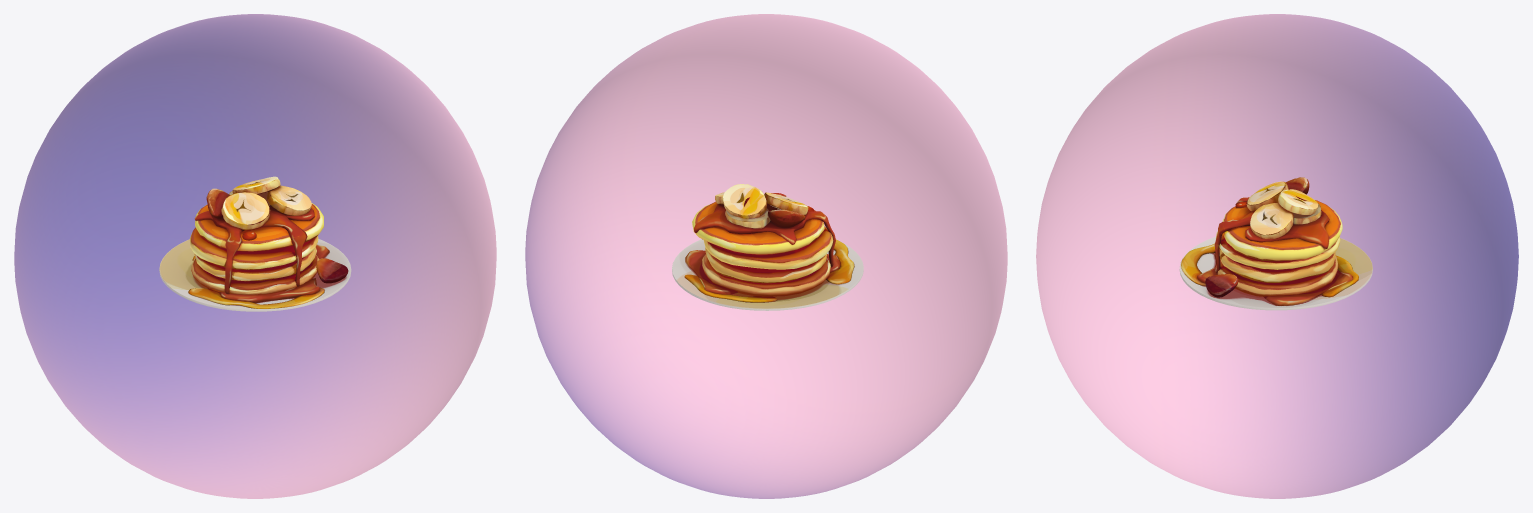
File: mouthwatering_banana_pancakes_in_syrup.glb
3 views of the same model, side by side, from view 1: azimuth 30°, elevation 25°; view 2: azimuth 150°, elevation 25°; view 3: azimuth 270°, elevation 25° (orthographic).
Visible parts, largest first — view 1: Sphere, Plate.001, PCake.007, PCake.006, Syrup.009, PCake.004, Banana.006, PCake.005, Strawberry.001, Syrup.008, Banana.005, Syrup.011 (+1 smaller); view 2: Sphere, Plate.001, PCake.007, PCake.006, PCake.004, Syrup.009, PCake.005, Banana.007, Syrup.010, Syrup.008, Syrup.007, Banana.006 (+1 smaller); view 3: Sphere, Plate.001, PCake.007, Syrup.009, PCake.004, PCake.005, Banana.005, PCake.006, Strawberry.001, Syrup.010, Banana.007, Banana.006 (+1 smaller).
Part boxes in pixels (left/top/right/bottom): Sphere: left=14, top=14, right=496, bottom=498; Plate.001: left=159, top=239, right=351, bottom=311; PCake.007: left=195, top=203, right=323, bottom=251; PCake.006: left=189, top=227, right=318, bottom=269; Syrup.009: left=194, top=205, right=314, bottom=294; PCake.004: left=191, top=255, right=319, bottom=294; Banana.006: left=221, top=192, right=270, bottom=230; PCake.005: left=194, top=247, right=316, bottom=281; Strawberry.001: left=206, top=188, right=348, bottom=283; Syrup.008: left=188, top=287, right=324, bottom=308; Banana.005: left=266, top=185, right=311, bottom=215; Syrup.011: left=219, top=278, right=320, bottom=303; Sphere: left=525, top=14, right=1007, bottom=498; Plate.001: left=672, top=239, right=863, bottom=310; PCake.007: left=692, top=201, right=824, bottom=254; PCake.006: left=703, top=226, right=833, bottom=269; PCake.004: left=702, top=254, right=830, bottom=296; Syrup.009: left=694, top=193, right=835, bottom=267; PCake.005: left=705, top=247, right=826, bottom=283; Banana.007: left=722, top=184, right=766, bottom=218; Syrup.010: left=685, top=250, right=737, bottom=294; Syrup.008: left=826, top=239, right=854, bottom=284; Syrup.007: left=684, top=274, right=777, bottom=302; Banana.006: left=764, top=192, right=808, bottom=215; Sphere: left=1036, top=14, right=1518, bottom=498; Plate.001: left=1179, top=236, right=1372, bottom=310; PCake.007: left=1222, top=200, right=1342, bottom=261; Syrup.009: left=1214, top=197, right=1329, bottom=273; PCake.004: left=1216, top=256, right=1338, bottom=296; PCake.005: left=1219, top=249, right=1335, bottom=282; Banana.005: left=1250, top=203, right=1293, bottom=238; PCake.006: left=1216, top=231, right=1340, bottom=269; Strawberry.001: left=1205, top=177, right=1309, bottom=297; Syrup.010: left=1263, top=270, right=1352, bottom=305; Banana.007: left=1278, top=189, right=1317, bottom=214; Banana.006: left=1246, top=181, right=1288, bottom=211.
Bounding box in the file's own units: 4.83 × 4.88 × 4.83.
Materials: 6 (6 with a texture image).
